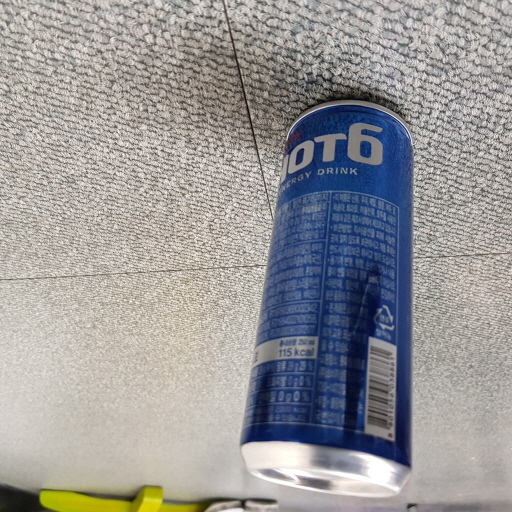Metal_0: (241, 98, 419, 500)
